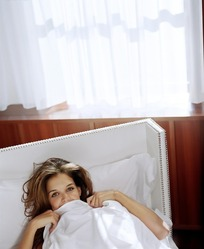face: (47, 173, 79, 217)
